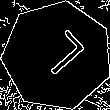L_SW: (28, 27, 86, 84)
